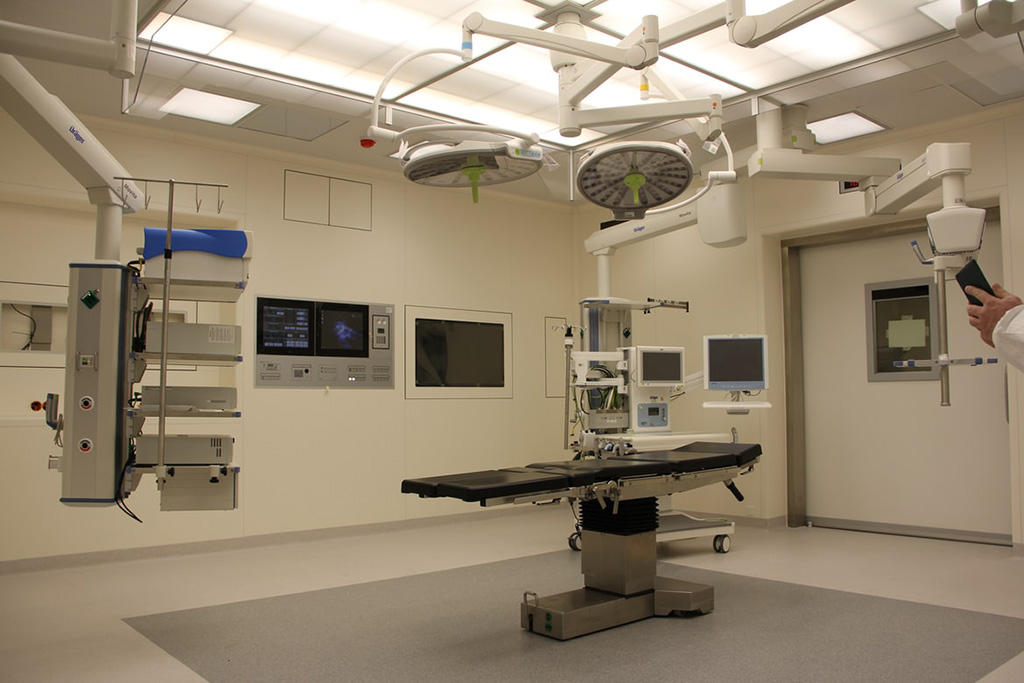bedside_monitor: (703, 335, 769, 393), (313, 302, 366, 361), (257, 301, 310, 360), (641, 345, 686, 389)
iv_pole: (111, 173, 232, 489), (551, 322, 589, 450)
operating_bed: (401, 440, 762, 642)
surgical_light: (575, 138, 695, 214), (405, 142, 544, 190)
